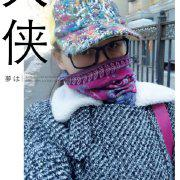WRONG: (64, 35, 133, 93)
